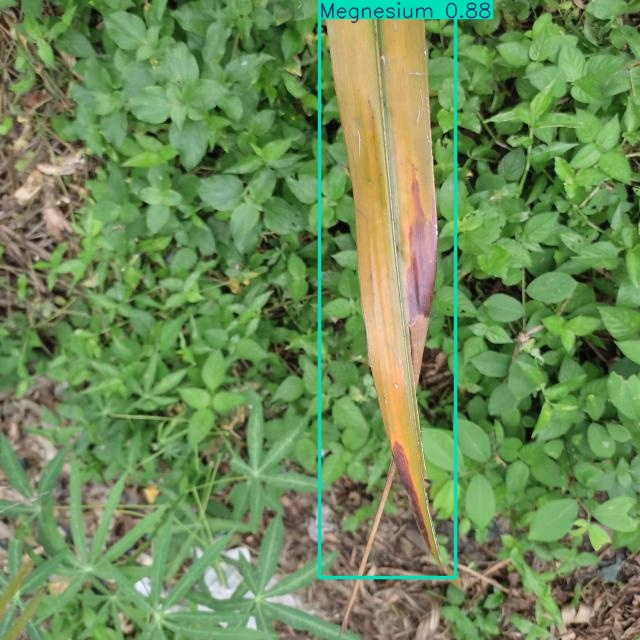Megnesium: (319, 0, 455, 578)
